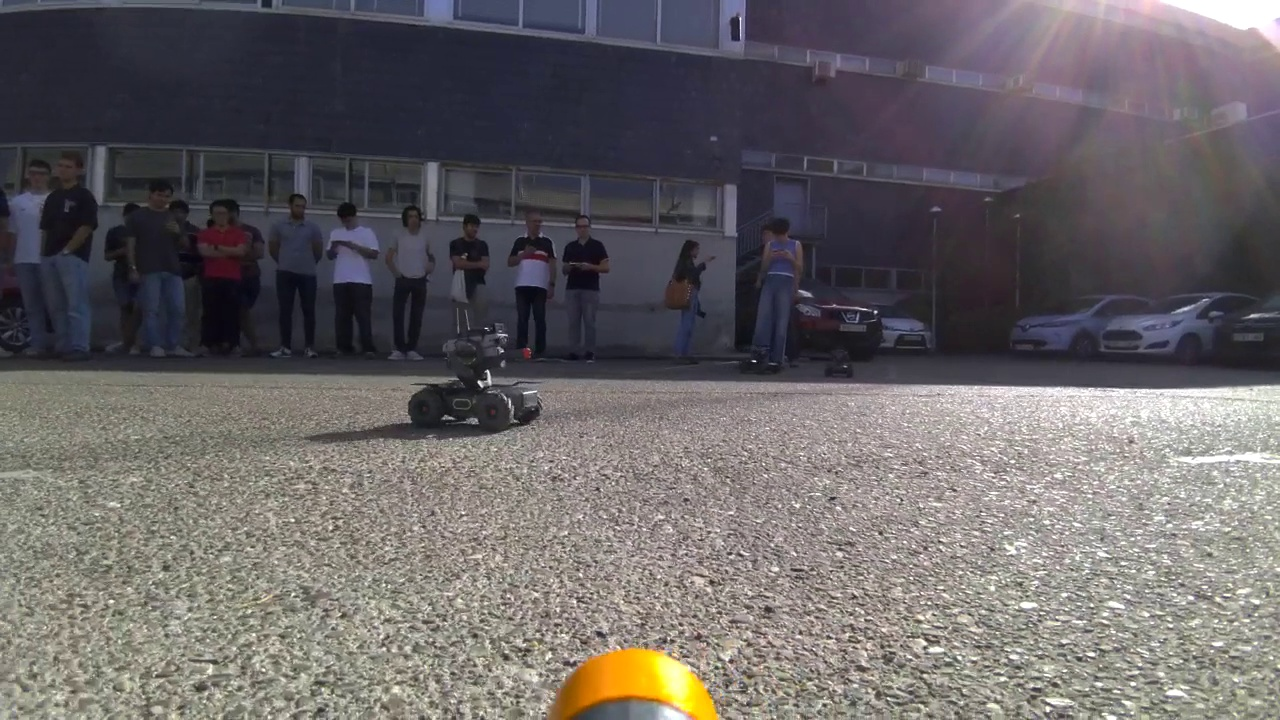robot: (392, 326, 556, 430), (820, 334, 851, 383)
